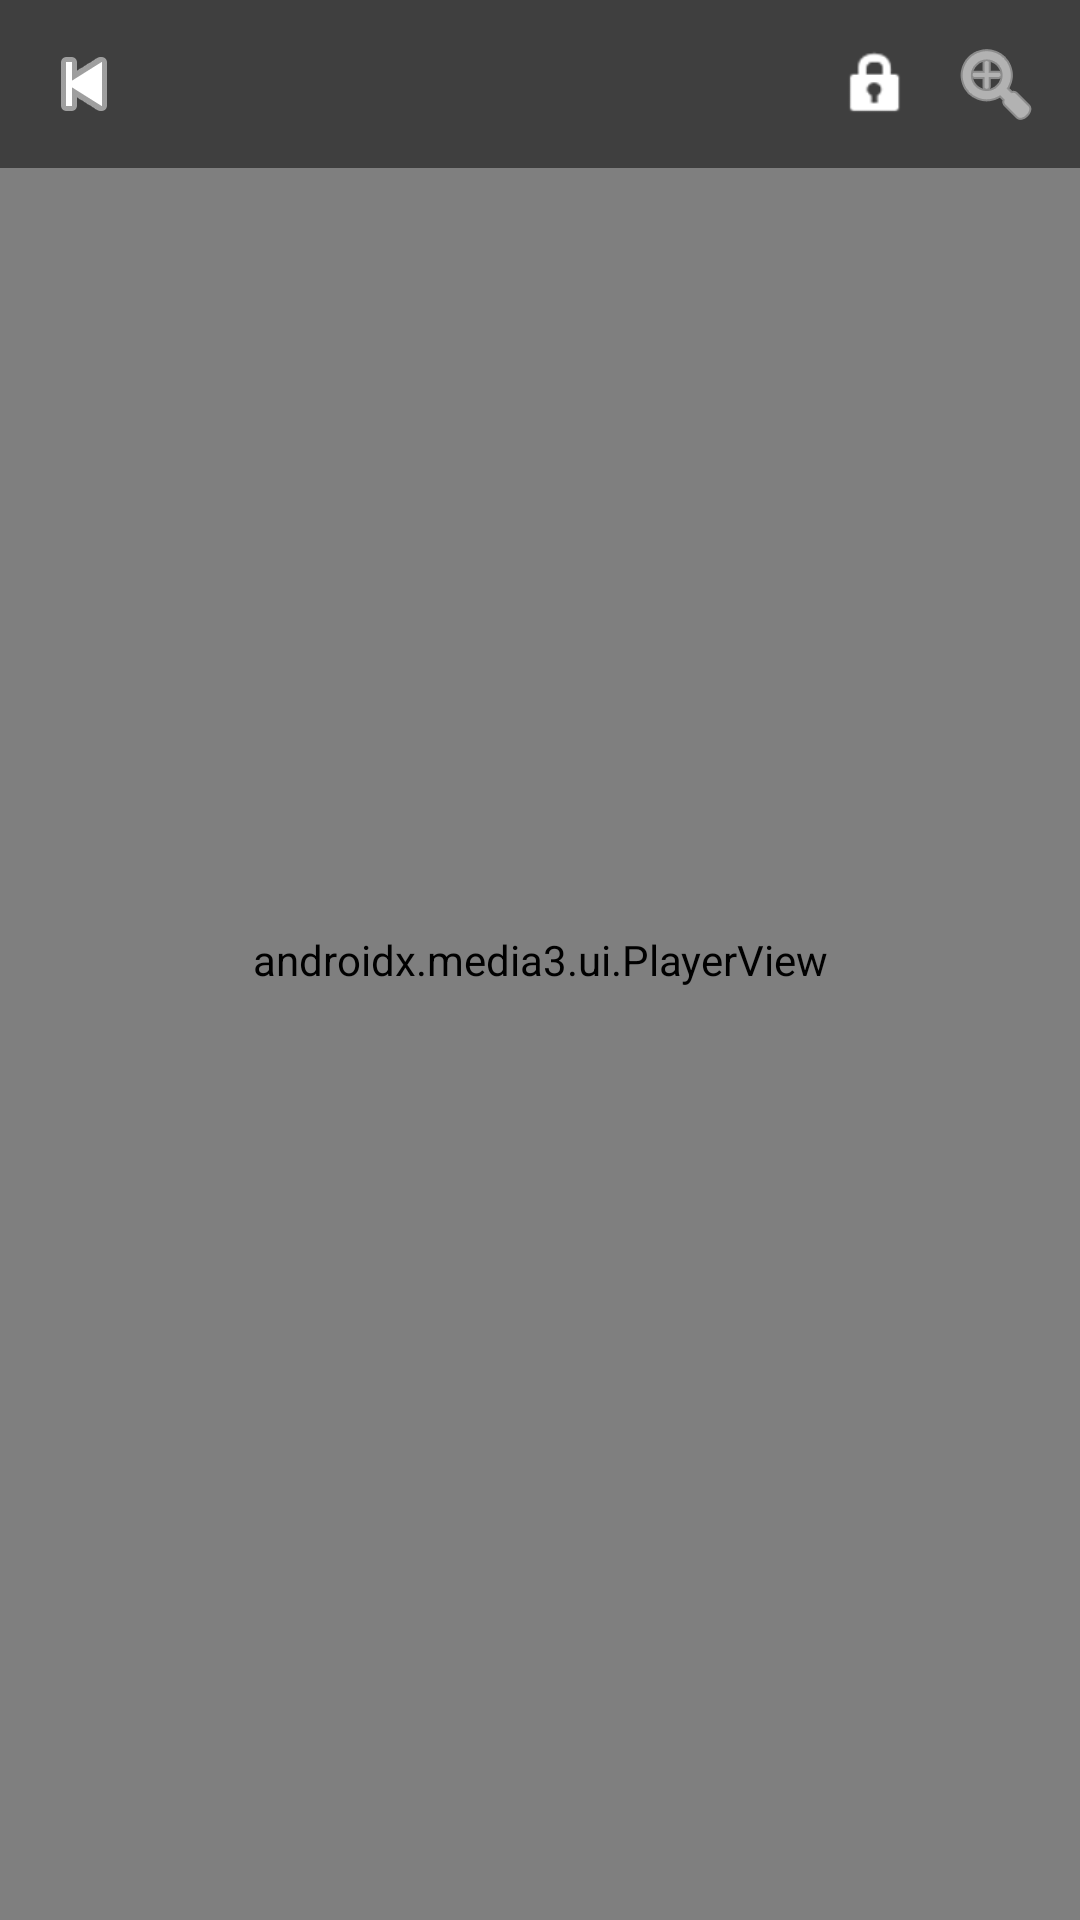

Where to tap for icons on this 1080 x 1920 app screen, as (x=x, y=y):
lock idle: (x=874, y=82)
previous: (x=84, y=84)
zoom: (x=996, y=84)
